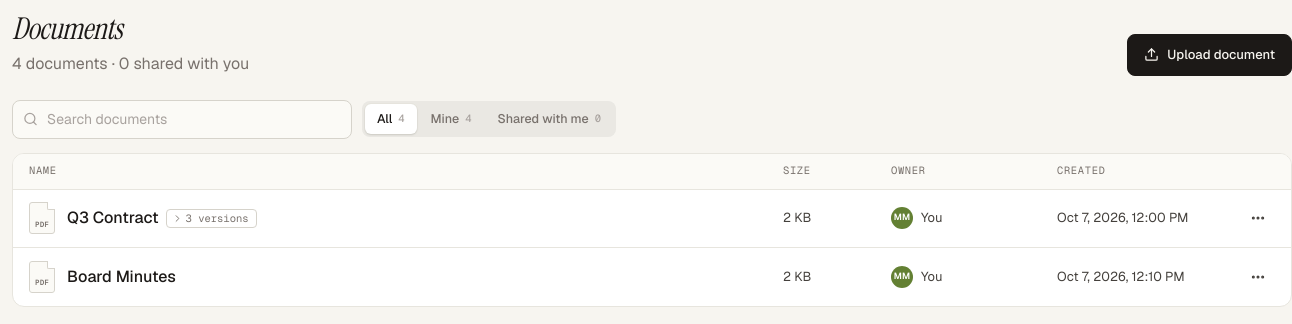
Test: Grouping processed copies with their original › shows a copy on its own when its original is not in the list
Expected: the link "Q3 Contract" is shown, [67, 207, 158, 228]
Type "protected" into the field with placeholder "Search documents" at point(182, 119), box [12, 100, 352, 139]
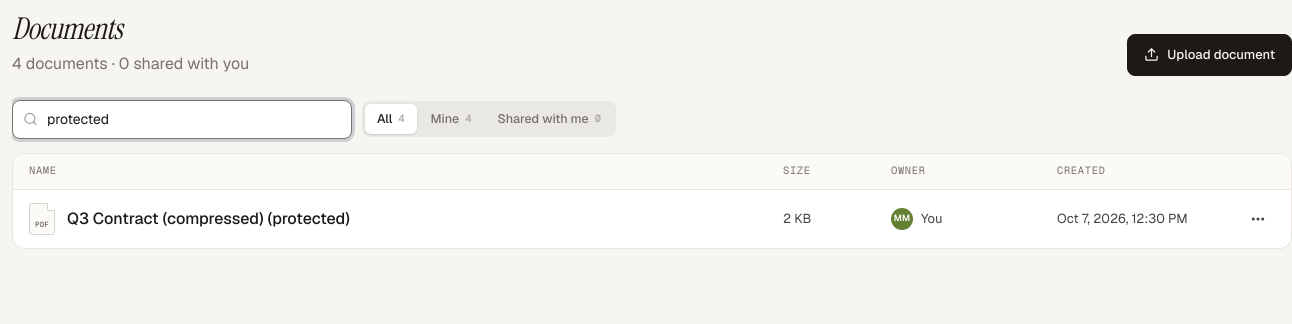
Now the link "Q3 Contract (compressed) (protected)" is shown, box [67, 208, 350, 229]
